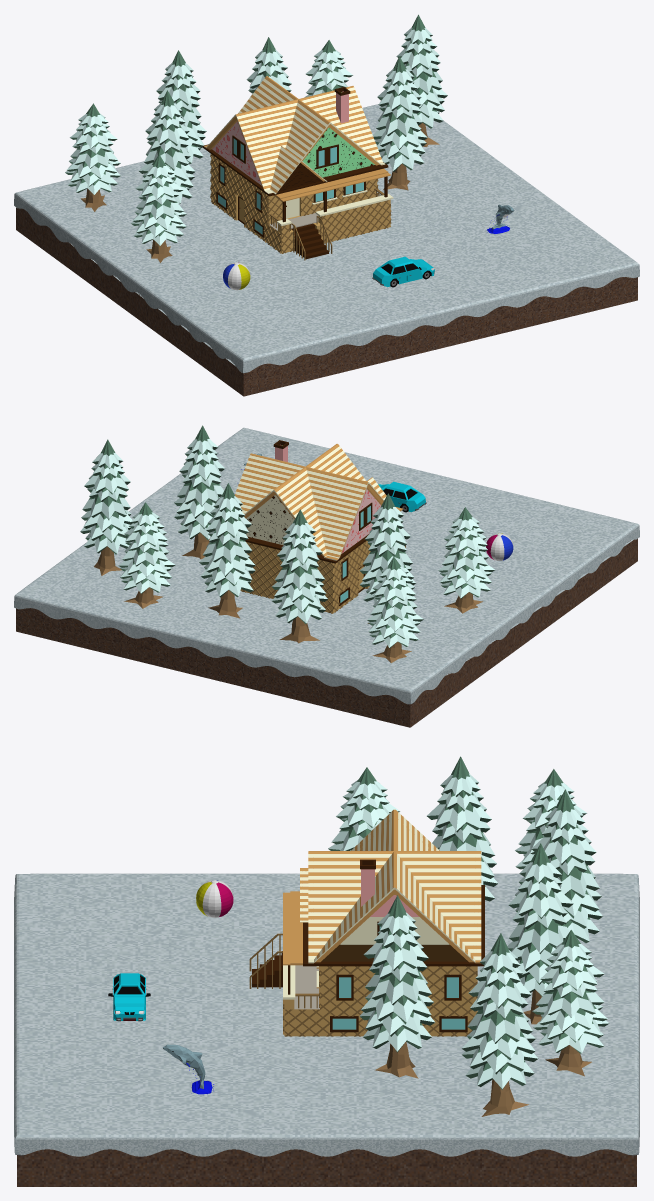
3 views of the same model, one above another, from view 1: azimuth 30°, elevation 25°; view 2: azimuth 150°, elevation 25°; view 3: azimuth 270°, elevation 25° (orthographic). The views are drawn at different scales.
Parts seen in each view (by area): view 1: Cube.003, Cube.1102, VEHICLES_CAR, OBJRANDOM_BEACHBALL; view 2: Cube.003, Cube.1102, VEHICLES_CAR, OBJRANDOM_BEACHBALL; view 3: Cube.003, Cube.1102, VEHICLES_CAR, OBJRANDOM_BEACHBALL, ANIMAL_DELFIN.
Boxes of the visible parts, x1,y1,x2,y2 form: Cube.003: [14, 14, 639, 396]; Cube.1102: [202, 76, 393, 260]; VEHICLES_CAR: [372, 256, 434, 287]; OBJRANDOM_BEACHBALL: [223, 262, 250, 290]; Cube.003: [14, 425, 639, 727]; Cube.1102: [234, 440, 405, 613]; VEHICLES_CAR: [378, 481, 426, 512]; OBJRANDOM_BEACHBALL: [486, 533, 513, 560]; Cube.003: [14, 756, 639, 1186]; Cube.1102: [249, 809, 484, 1036]; VEHICLES_CAR: [108, 973, 150, 1021]; OBJRANDOM_BEACHBALL: [196, 880, 233, 917]; ANIMAL_DELFIN: [163, 1044, 214, 1094].
Bounding box in the file's own units: 4040 × 1695 × 4040.
Materials: 31 (4 with a texture image).
